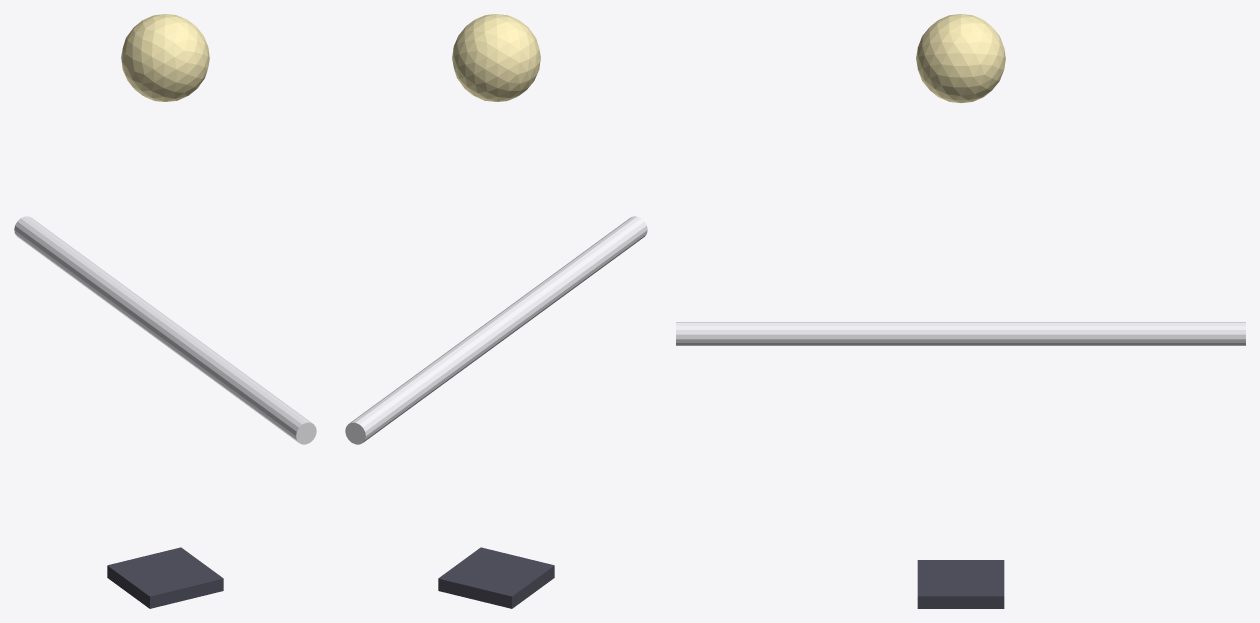
Rendered from lamp_street_light.glb.
3 views of the same model, side by side, from view 1: azimuth 30°, elevation 25°; view 2: azimuth 150°, elevation 25°; view 3: azimuth 270°, elevation 25° (orthographic).
Parts seen in each view (by area): view 1: post, lamp, base; view 2: post, lamp, base; view 3: post, lamp, base.
Part boxes in pixels (x1,y1,x2,y2): post: (14,216,316,444); lamp: (121,14,209,101); base: (107,547,223,608); post: (345,216,647,444); lamp: (452,14,540,101); base: (438,547,554,608); post: (676,322,1245,345); lamp: (916,14,1005,102); base: (917,560,1004,608).
Size of the model in its own units: 0.26 by 1.83 by 1.65.
